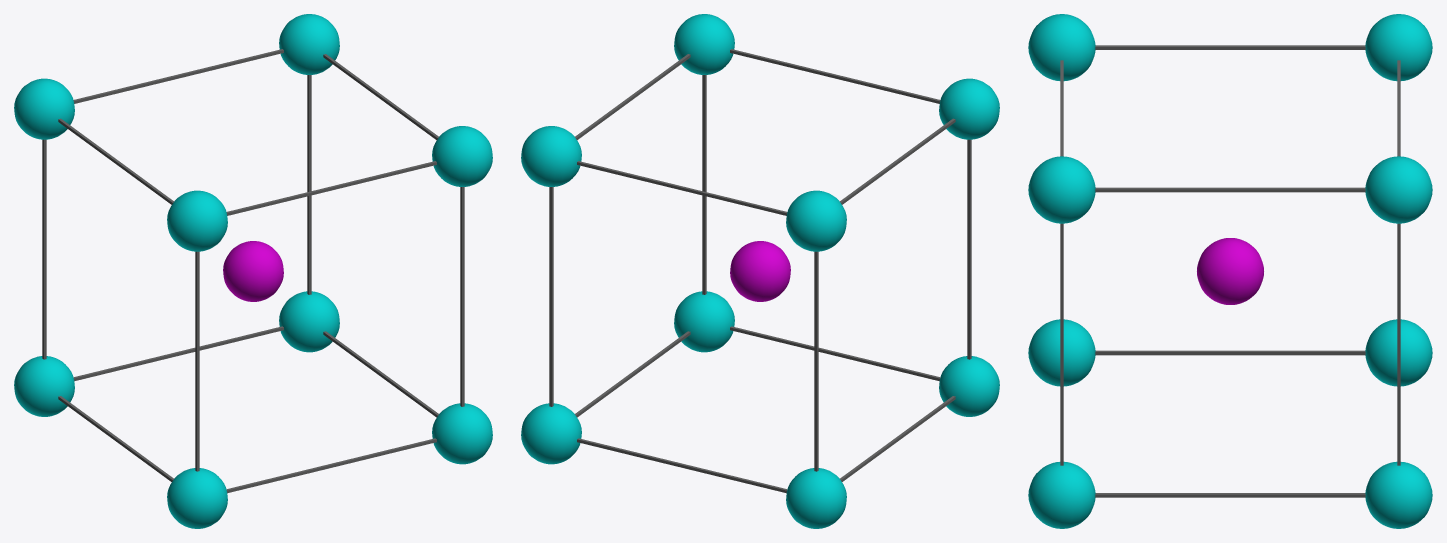
The model's file is bcc.glb.
The picture shows the model from 3 angles, left to right: view 1: azimuth 30°, elevation 25°; view 2: azimuth 150°, elevation 25°; view 3: azimuth 270°, elevation 25°; orthographic projection. The views are drawn at different scales.
Visible parts, largest first — view 1: atomo5, centro, atomo4, atomo7, atomo3, atomo6, atomo2, atomo8, atomo1, arista7, arista8, arista6 (+9 smaller); view 2: atomo6, centro, atomo2, atomo8, atomo1, atomo5, atomo4, atomo7, atomo3, arista7, arista8, arista5 (+9 smaller); view 3: atomo7, atomo8, atomo1, atomo3, centro, atomo5, atomo6, atomo2, atomo4, arista4, arista10, arista2 (+3 smaller).
Part boxes in pixels (box(x1,y1,x2,y2)): atomo5: box(167, 190, 227, 251); centro: box(223, 241, 283, 301); atomo4: box(167, 468, 227, 528); atomo7: box(432, 126, 492, 186); atomo3: box(432, 403, 492, 464); atomo6: box(14, 78, 74, 139); atomo2: box(14, 356, 74, 416); atomo8: box(279, 14, 339, 74); atomo1: box(279, 291, 339, 352); arista7: box(195, 251, 199, 471); arista8: box(42, 139, 46, 359); arista6: box(460, 187, 464, 406); atomo6: box(786, 190, 846, 251); centro: box(730, 241, 790, 301); atomo2: box(786, 468, 846, 528); atomo8: box(521, 126, 581, 186); atomo1: box(521, 403, 581, 464); atomo5: box(939, 78, 999, 139); atomo4: box(939, 356, 999, 416); atomo7: box(674, 14, 734, 74); atomo3: box(674, 291, 734, 352); arista7: box(967, 139, 971, 359); arista8: box(814, 251, 818, 471); arista5: box(549, 187, 553, 406); atomo7: box(1028, 156, 1095, 223); atomo8: box(1365, 156, 1432, 223); atomo1: box(1365, 461, 1432, 528); atomo3: box(1028, 461, 1095, 528); centro: box(1197, 238, 1263, 304); atomo5: box(1028, 14, 1095, 81); atomo6: box(1365, 14, 1432, 81); atomo2: box(1365, 319, 1432, 386); atomo4: box(1028, 319, 1095, 386); arista4: box(1095, 350, 1365, 355); arista10: box(1095, 187, 1365, 192); arista2: box(1095, 493, 1365, 497).
Size of the model in its own units: 1.2 by 1.2 by 1.2.
